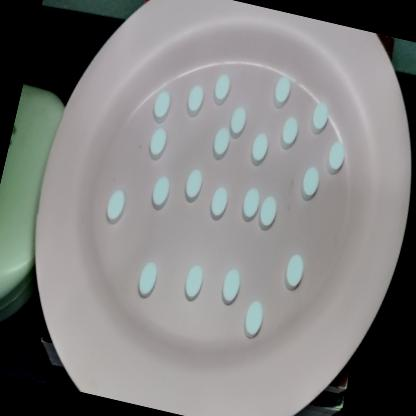Paracetamol: (101, 184, 130, 232), (132, 259, 162, 304), (239, 296, 267, 342), (280, 252, 309, 296), (217, 266, 245, 310), (148, 85, 176, 128), (181, 80, 208, 124), (144, 122, 172, 164), (237, 184, 264, 226), (180, 262, 206, 305), (148, 172, 174, 214), (298, 162, 324, 204), (255, 190, 282, 230), (308, 96, 334, 137), (323, 138, 348, 180), (277, 114, 303, 152), (181, 166, 207, 204), (206, 186, 232, 222), (247, 131, 272, 168), (209, 124, 233, 162), (270, 74, 294, 110), (226, 104, 250, 140)
